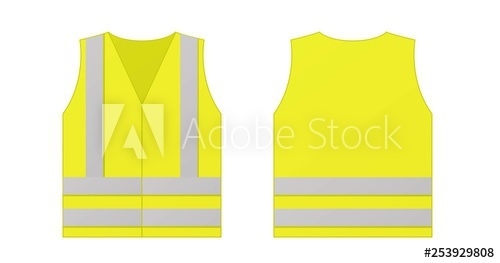safety vest: (61, 32, 222, 238), (274, 30, 433, 238)
